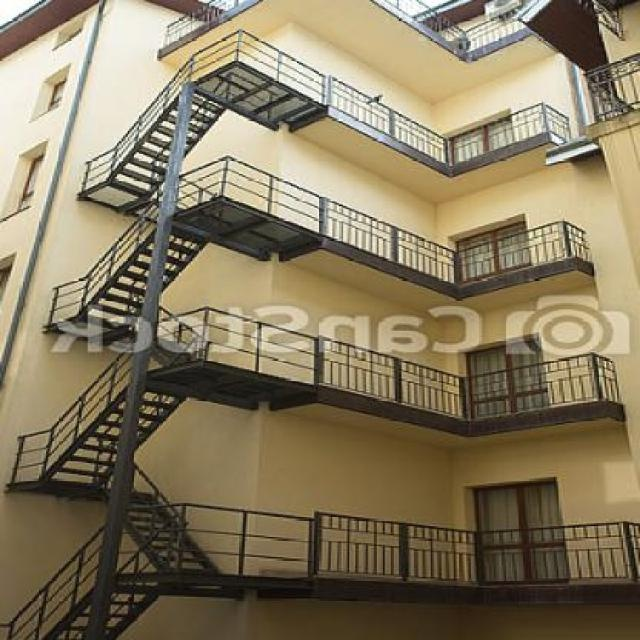stair: (12, 359, 232, 586), (9, 54, 300, 197), (12, 195, 262, 343)
